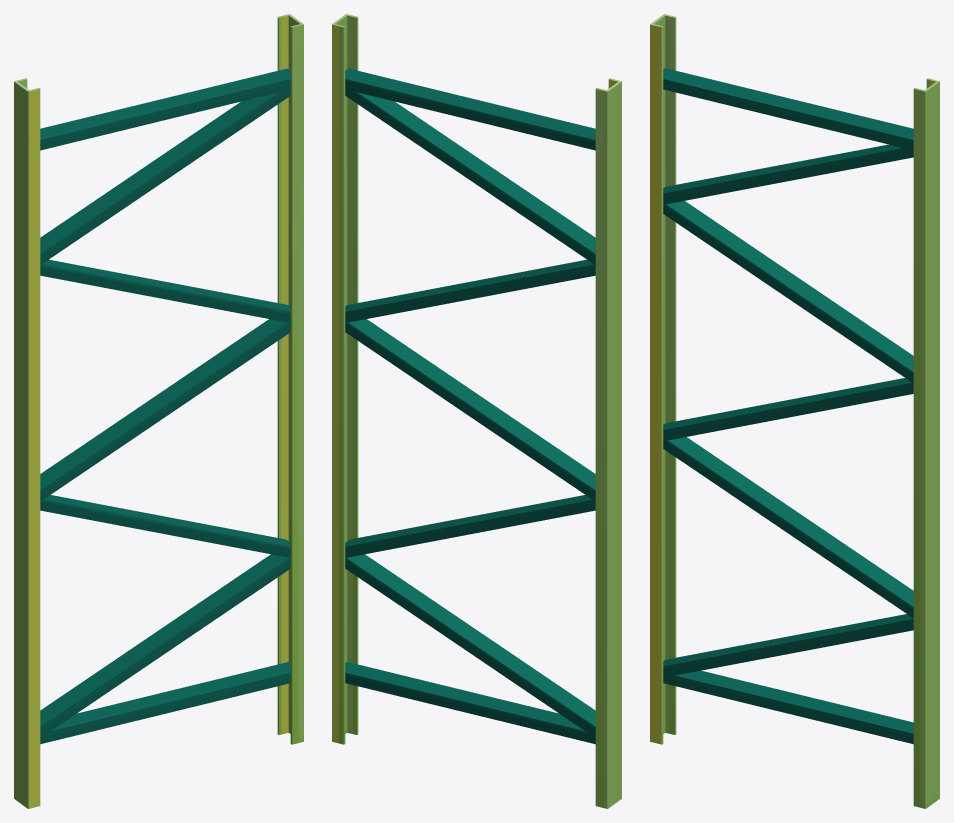
File: SM_Build_Schwerlastregal_Rahmen.fbx
The picture shows the model from 3 angles, left to right: view 1: azimuth 30°, elevation 25°; view 2: azimuth 150°, elevation 25°; view 3: azimuth 330°, elevation 25°; orthographic projection.
Parts seen in each view (by area): view 1: Schwerlastregal Rahmen; view 2: Schwerlastregal Rahmen; view 3: Schwerlastregal Rahmen.
Part boxes in pixels (bbox=[...]): Schwerlastregal Rahmen: bbox=[14, 14, 303, 808]; Schwerlastregal Rahmen: bbox=[332, 14, 621, 808]; Schwerlastregal Rahmen: bbox=[650, 14, 939, 808].
Bounding box in the file's own units: 1.1 × 2.73 × 0.1.
